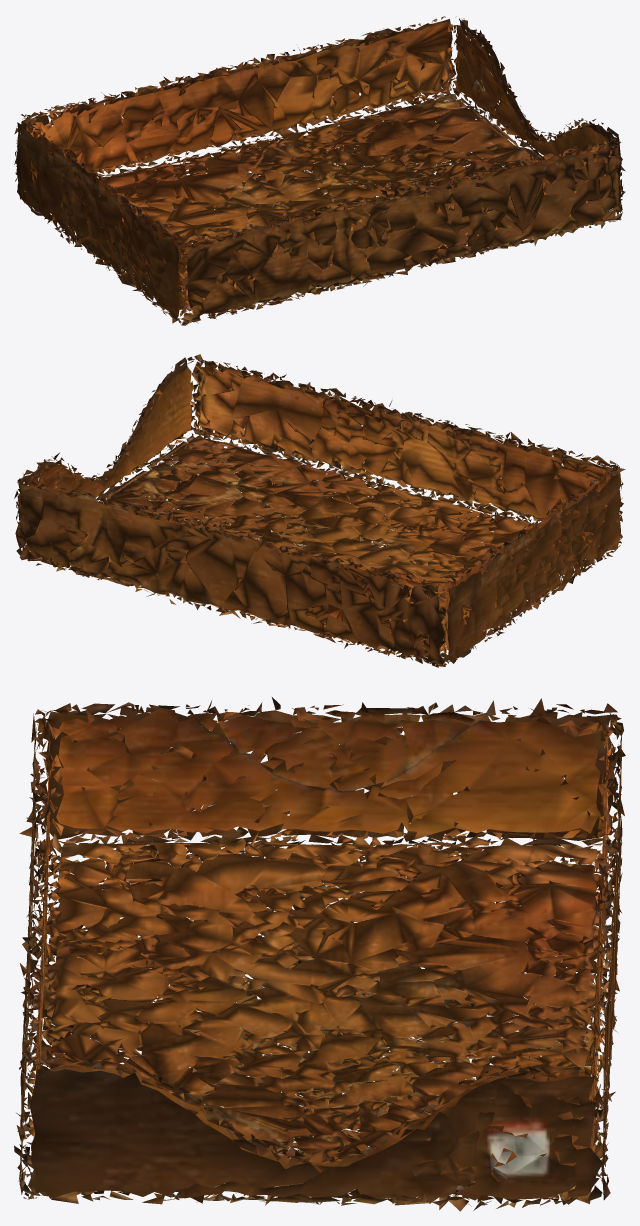
File: filing-tray-wood.glb
3 renders of one model, top to bottom at view 1: azimuth 30°, elevation 25°; view 2: azimuth 150°, elevation 25°; view 3: azimuth 270°, elevation 25°, orthographic. The views are drawn at different scales.
Visible parts, largest first — view 1: Object_0; view 2: Object_0; view 3: Object_0.
Boxes of the visible parts, x1=… form: Object_0: x1=14, y1=16, x2=625, y2=325; Object_0: x1=14, y1=354, x2=625, y2=667; Object_0: x1=14, y1=697, x2=625, y2=1211.
Bounding box in the file's own units: 0.3372 × 0.0704 × 0.2349.
1 material, 1 textured.
